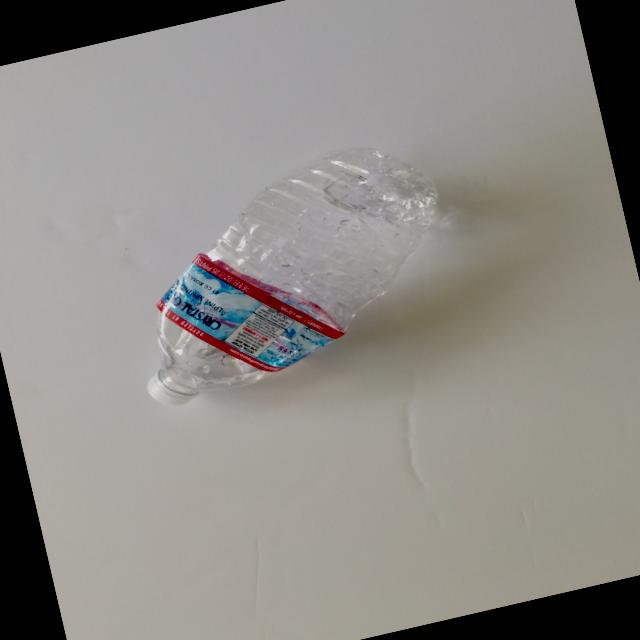Plastic: (64, 113, 492, 456)
